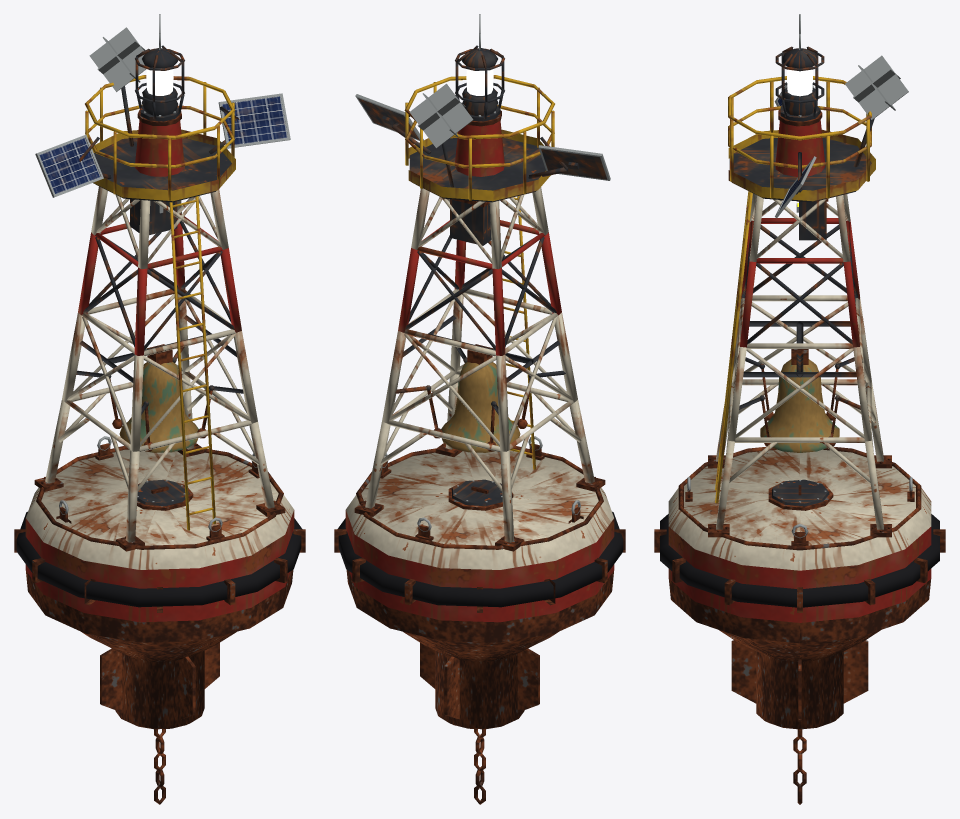
File: buoy_bell_tower.glb
3 views of the same model, side by side, from view 1: azimuth 30°, elevation 25°; view 2: azimuth 150°, elevation 25°; view 3: azimuth 270°, elevation 25° (orthographic).
Parts seen in each view (by area): view 1: buoy_bell_tower; view 2: buoy_bell_tower; view 3: buoy_bell_tower.
Part boxes in pixels (x1=…): buoy_bell_tower: x1=14, y1=14, x2=305, y2=804; buoy_bell_tower: x1=334, y1=14, x2=625, y2=804; buoy_bell_tower: x1=654, y1=14, x2=945, y2=804.
Bounding box in the file's own units: 2.73 × 8.17 × 2.73.
Materials: 11 (7 with a texture image).
